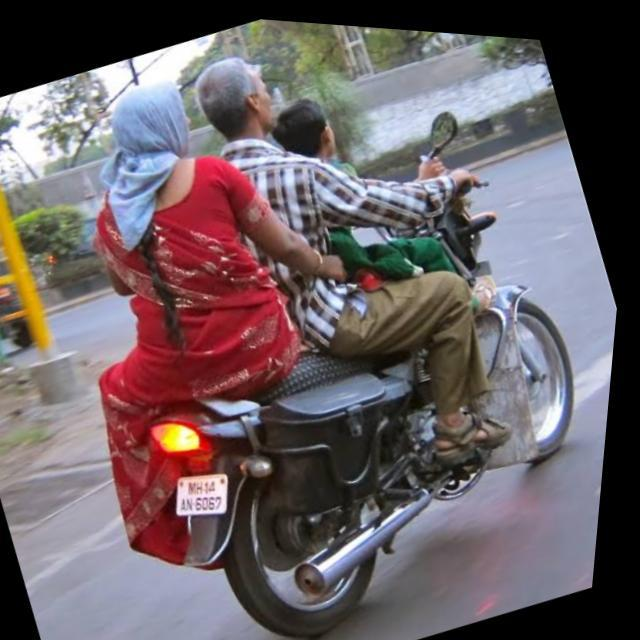Nonhelmet: (196, 55, 278, 152), (271, 96, 343, 167)
